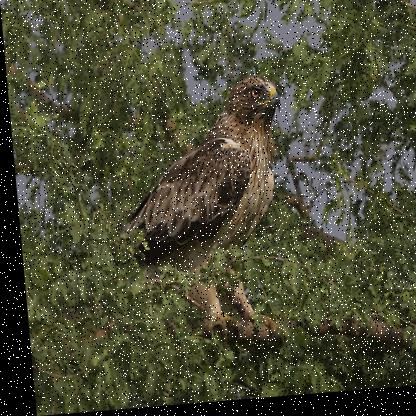Burung: (96, 77, 299, 343)
